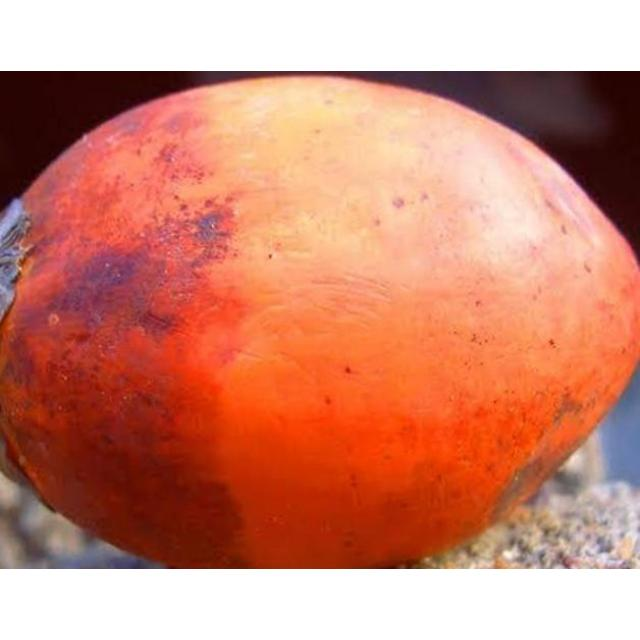good: (0, 76, 639, 568)
